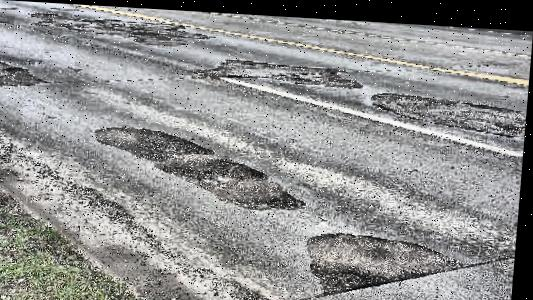pothole: (166, 154, 271, 181), (137, 124, 217, 156), (319, 263, 381, 290)
